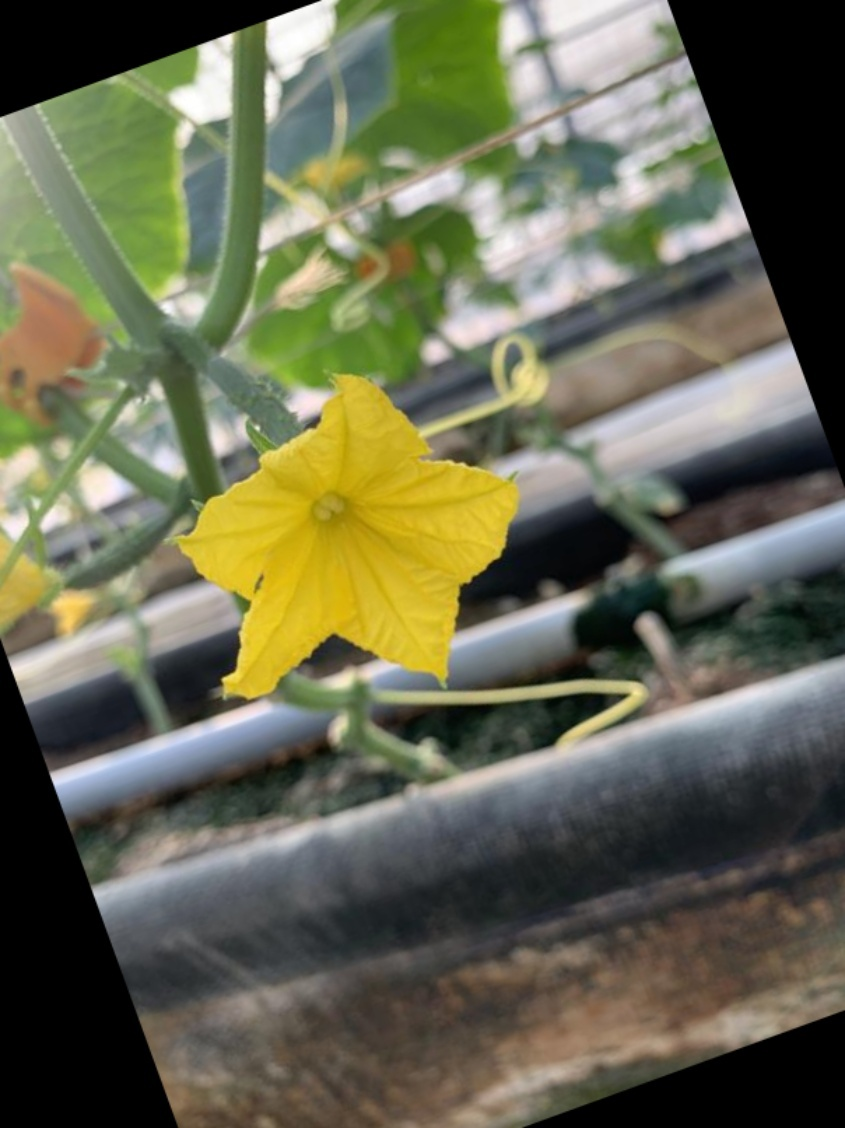flowering: (107, 346, 529, 704)
